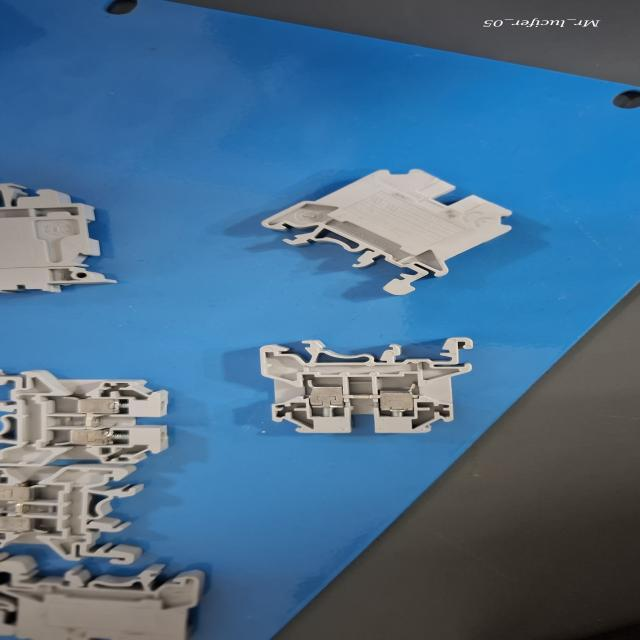Inverted: (252, 162, 518, 300)
Pass: (250, 328, 480, 438), (0, 366, 176, 473), (0, 461, 178, 566)
